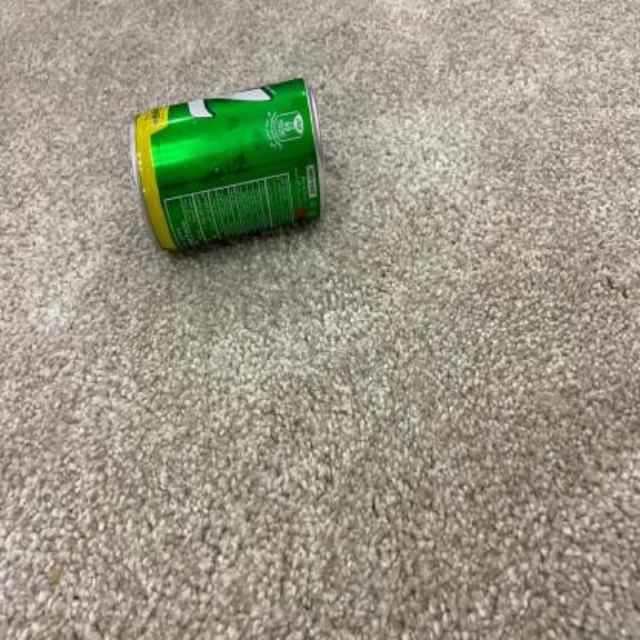metal: (129, 77, 317, 246)
